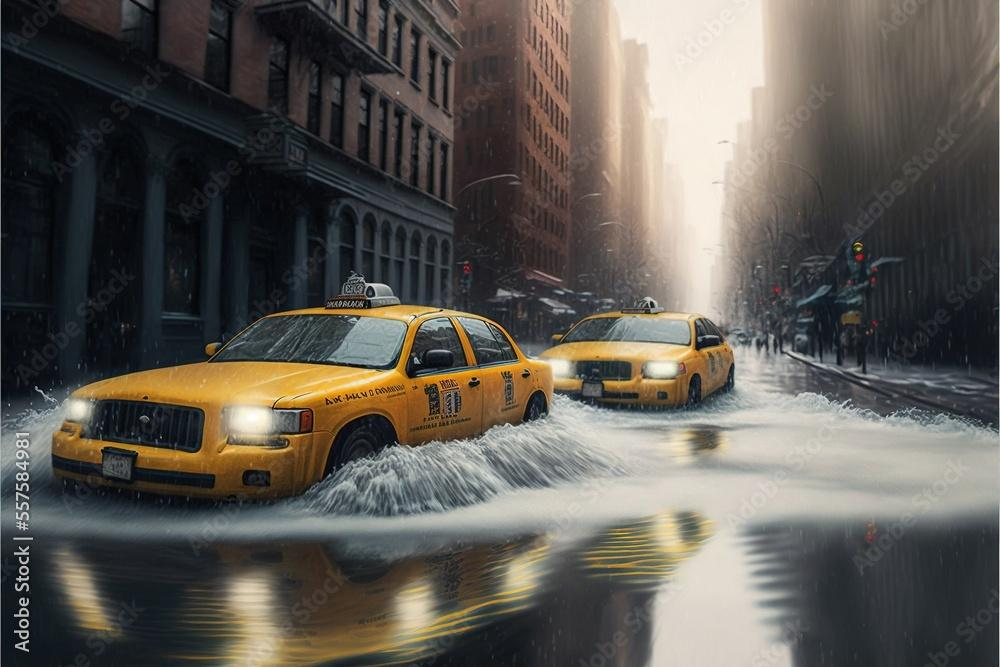taxi: (84, 273, 558, 506)
